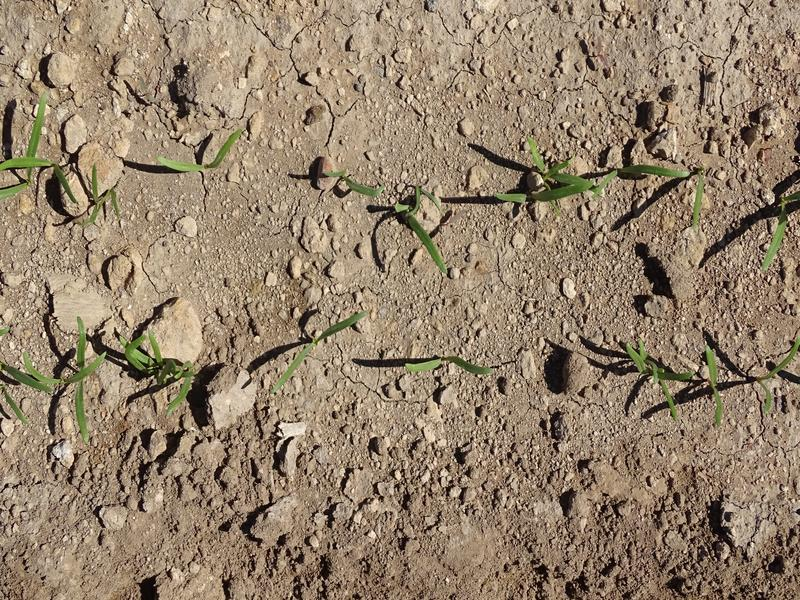Espinaca: (9, 322, 102, 419), (275, 308, 374, 391), (498, 142, 598, 213), (624, 336, 695, 418), (2, 103, 53, 206), (386, 189, 454, 265), (596, 145, 685, 200), (123, 335, 196, 401), (155, 124, 245, 170), (752, 340, 800, 413), (766, 188, 798, 273), (83, 177, 128, 226), (402, 356, 498, 378), (704, 345, 729, 424)
